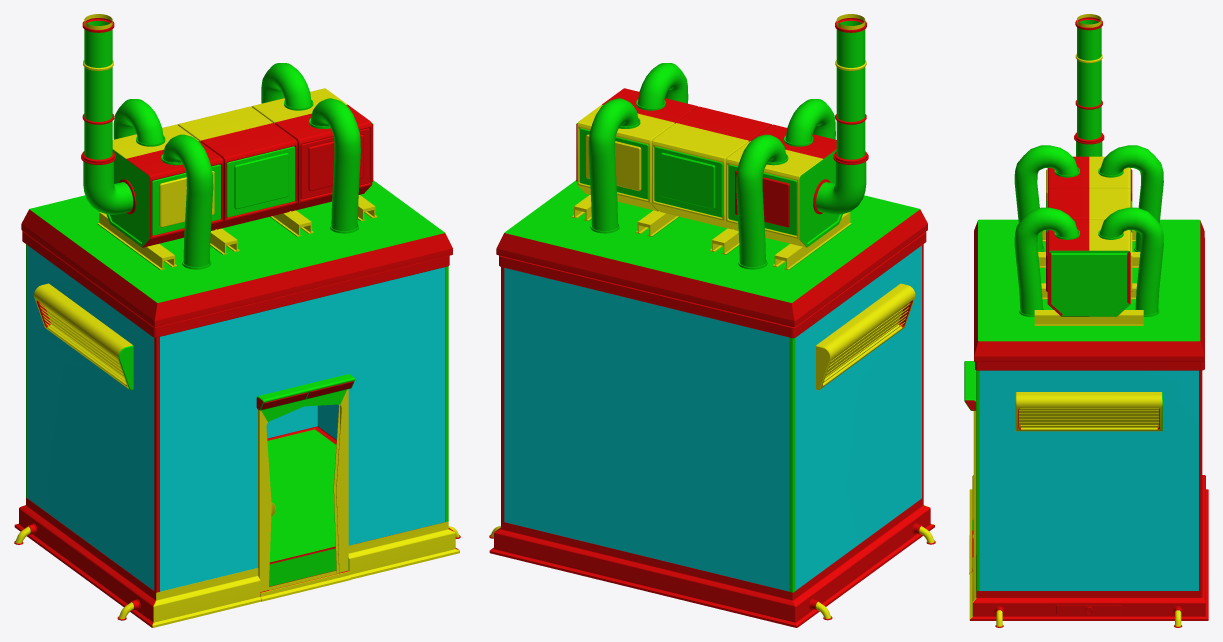
Rendered from Chamber_1.fbx.
3 views of the same model, side by side, from view 1: azimuth 30°, elevation 25°; view 2: azimuth 150°, elevation 25°; view 3: azimuth 270°, elevation 25° (orthographic). The views are drawn at different scales.
Parts seen in each view (by area): view 1: L:polySurface1788; view 2: L:polySurface1788; view 3: L:polySurface1788.
Part boxes in pixels (<box>): L:polySurface1788: <box>14,14,460,627</box>; L:polySurface1788: <box>489,14,935,627</box>; L:polySurface1788: <box>964,14,1208,627</box>.
Size of the model in its own units: 573 by 886 by 410.
